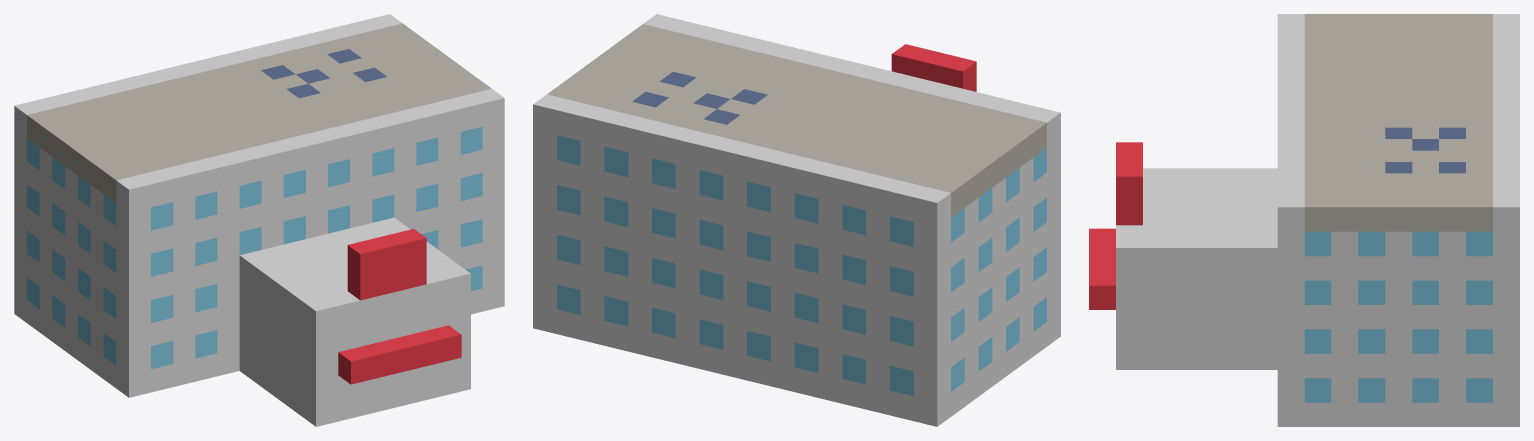
The model's file is hospital.glb.
3 renders of one model, left to right at view 1: azimuth 30°, elevation 25°; view 2: azimuth 150°, elevation 25°; view 3: azimuth 270°, elevation 25°, orthographic. The views are drawn at different scales.
Visible parts, largest first — view 1: hospital_white, hospital_roof_flat, hospital_window, hospital_red, hospital_roof_slate; view 2: hospital_white, hospital_roof_flat, hospital_window, hospital_red, hospital_roof_slate; view 3: hospital_white, hospital_roof_flat, hospital_window, hospital_red, hospital_roof_slate.
Boxes of the visible parts, x1,y1,x2,y2 form: hospital_white: (14,14,504,426); hospital_roof_flat: (27,23,491,202); hospital_window: (27,126,482,369); hospital_red: (338,229,461,384); hospital_roof_slate: (261,49,386,98); hospital_white: (533,14,1060,426); hospital_roof_flat: (547,24,1046,217); hospital_window: (557,135,1046,396); hospital_red: (891,44,976,91); hospital_roof_slate: (632,71,767,124); hospital_white: (1116,14,1519,426); hospital_roof_flat: (1304,14,1492,231); hospital_window: (1304,231,1492,402); hospital_red: (1089,142,1142,309); hospital_roof_slate: (1385,127,1465,173).
Bounding box in the file's own units: 33.02 × 17.48 × 31.08.
